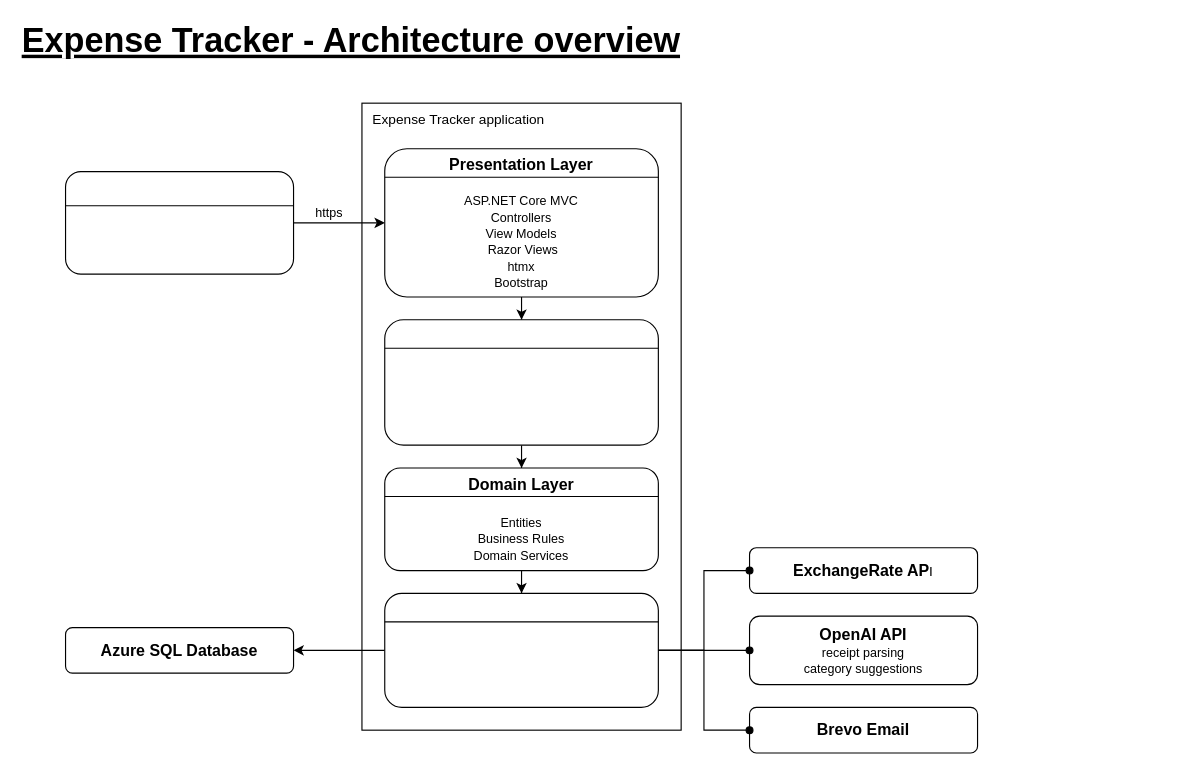
Image size: 1202x773. Some labels were removed from this diagram. The shapes that lost their labels are listed below. From the top down, each one's centre as x and y in pixels, then its label:
point 179,222: Client (Browser / PWA) Service worker IndexedDb Offline synchronisation
point 521,382: Application Layer Use cases Application services DTOs Validation Result pattern
point 521,649: Infrastructure Layer EF Core Identity Repositories External Integrations
